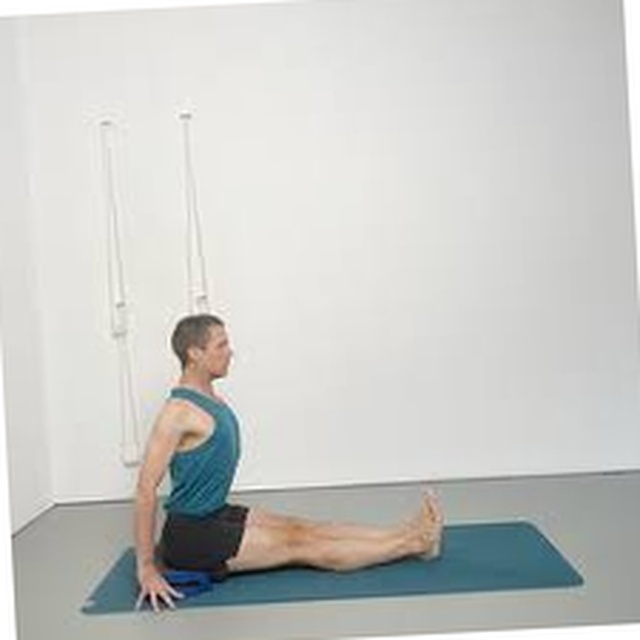Staff_Pose: (131, 314, 445, 612)
